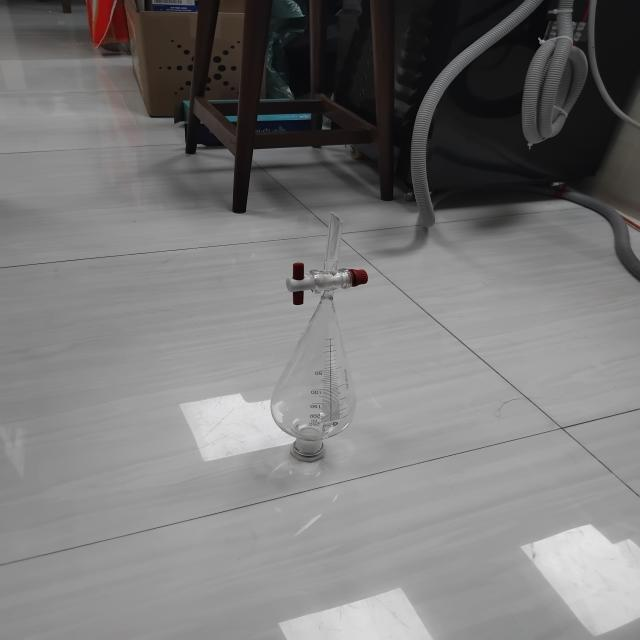Separating_Funnel: (240, 197, 400, 489)
